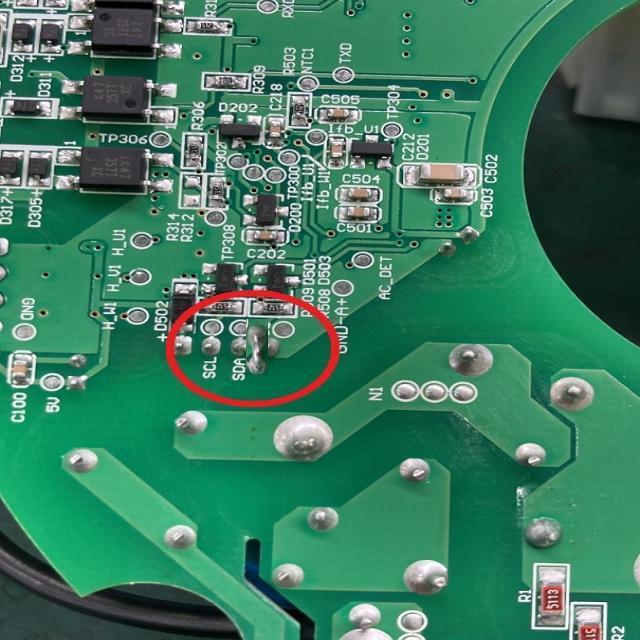damged: (238, 327, 277, 367)
